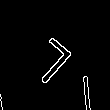L_SW: (16, 34, 74, 93)
